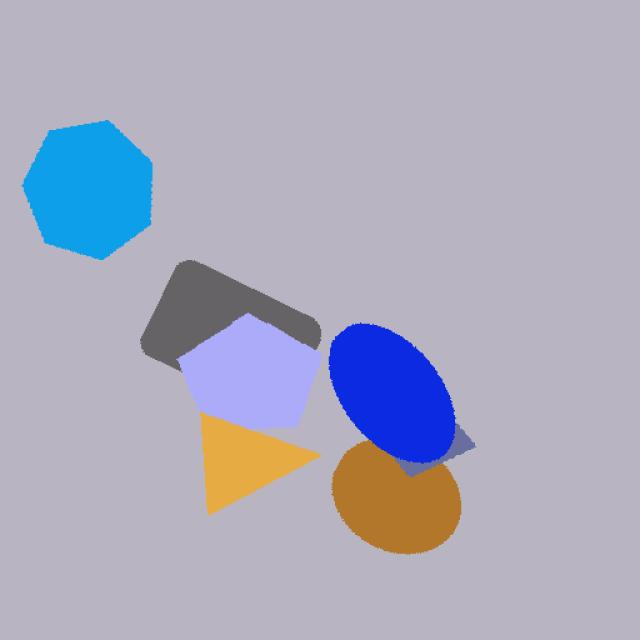Circle: (325, 428, 476, 565)
Heptagon: (11, 104, 161, 270)
Kite: (350, 383, 504, 488)
Oval: (328, 316, 460, 466)
Pentagon: (171, 300, 328, 432)
Rectangle: (129, 246, 332, 389)
Triangle: (188, 396, 316, 515)
